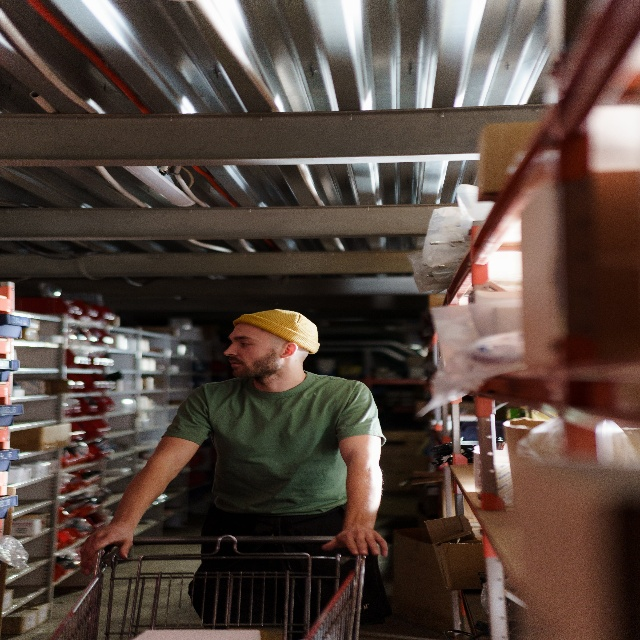Sin_guantes: (80, 520, 133, 576), (322, 523, 389, 556)
